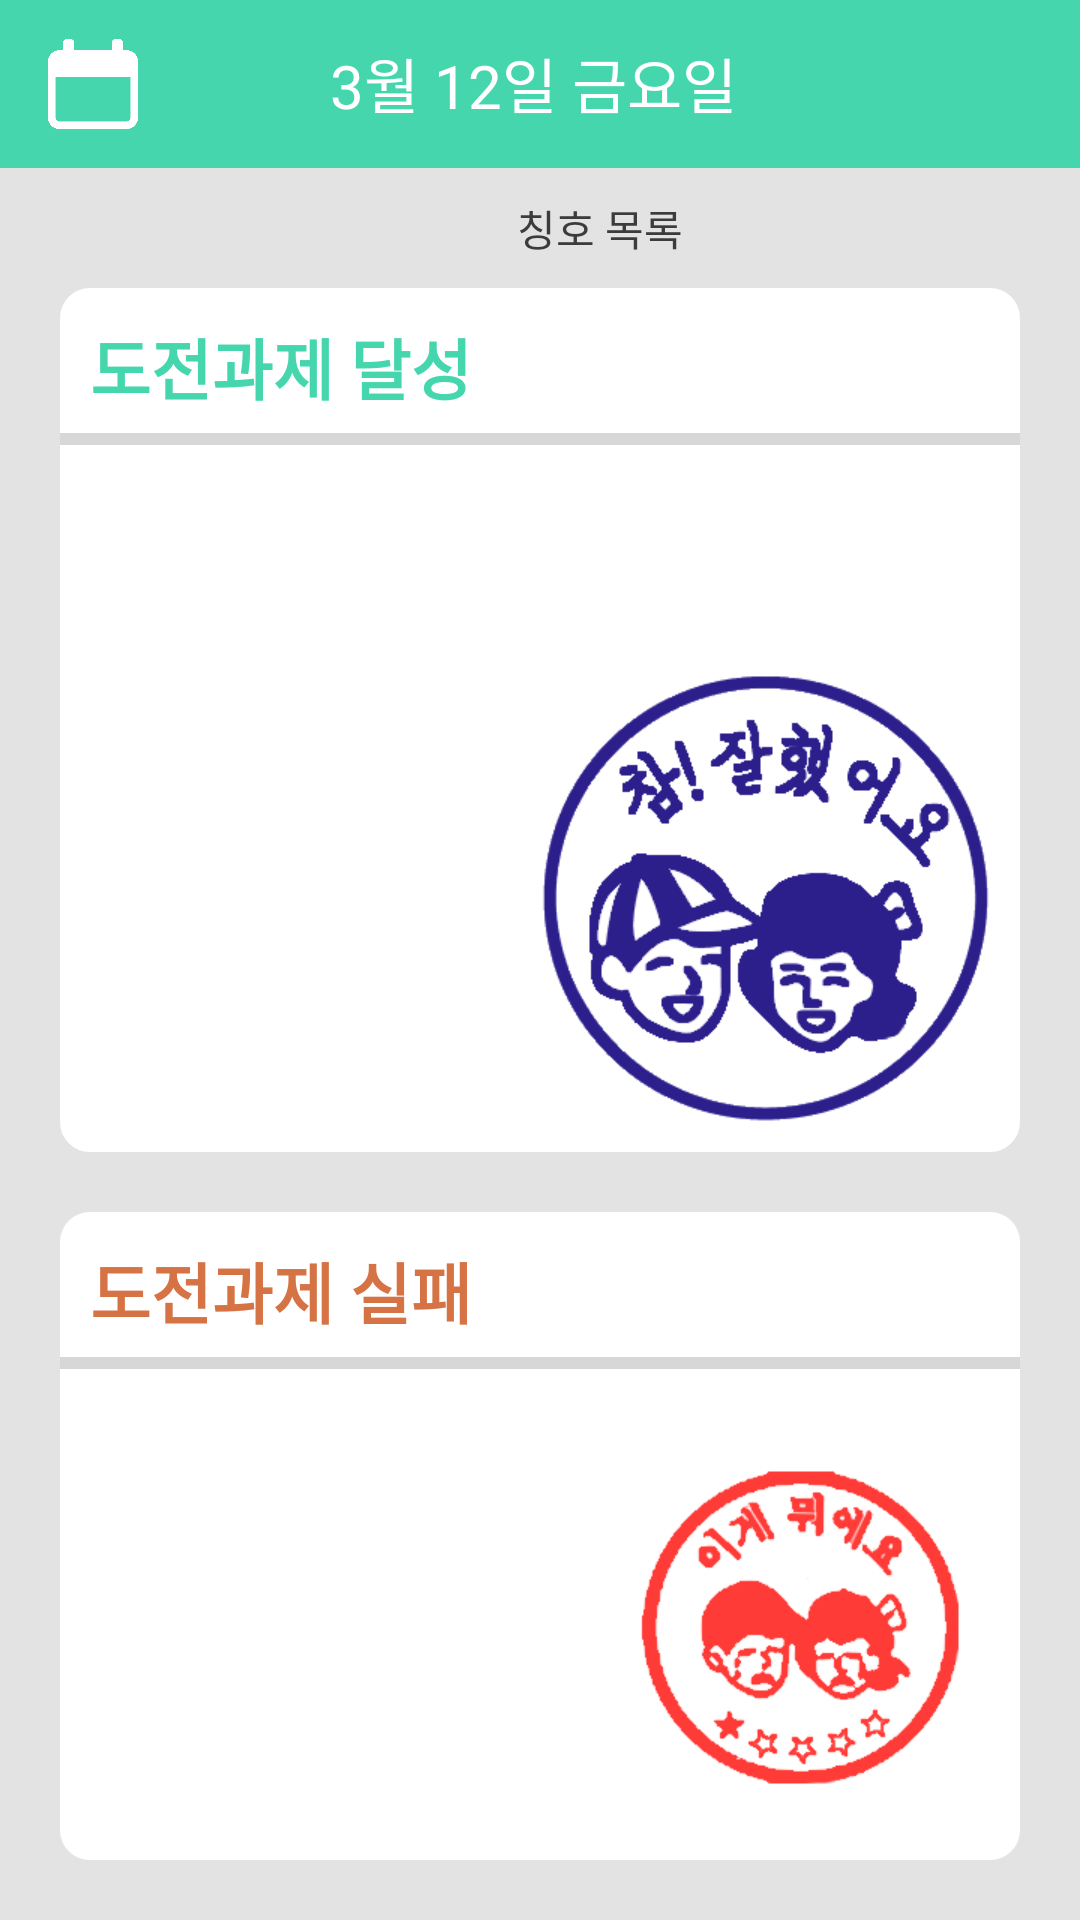

Point at icon controls on the screen. Image size 1080*1920, points as [x,y].
calendar: [93,84]
fail: [800,1627]
